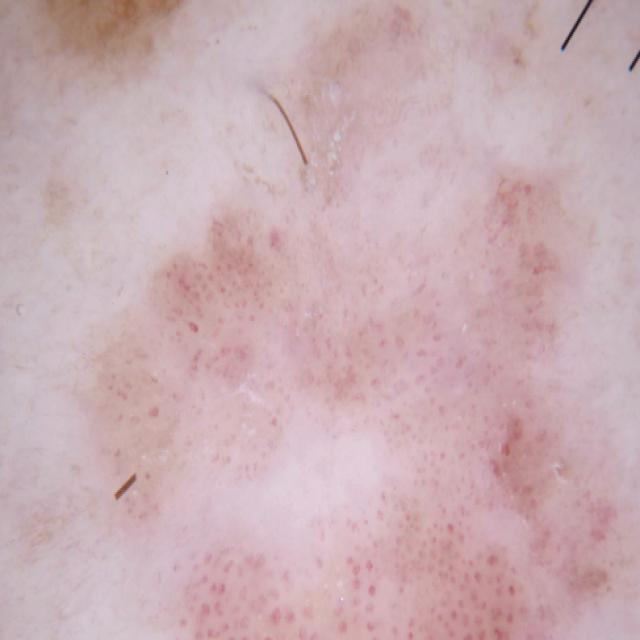Carcinoma: (88, 154, 639, 640)
